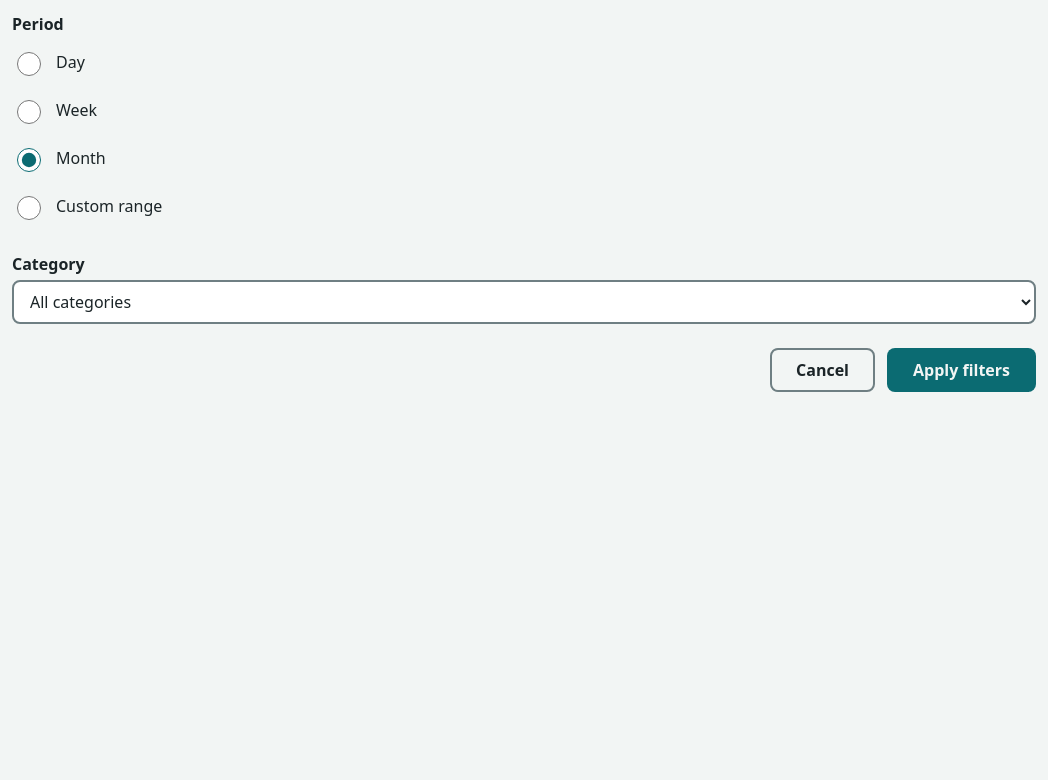
Scenario: ExpenseFilterForm › shows the date fields only for a custom range
Step 1. Click the radio button labelled "Custom range" → {"x": 29, "y": 208}, box x1=17 y1=196 x2=41 y2=220
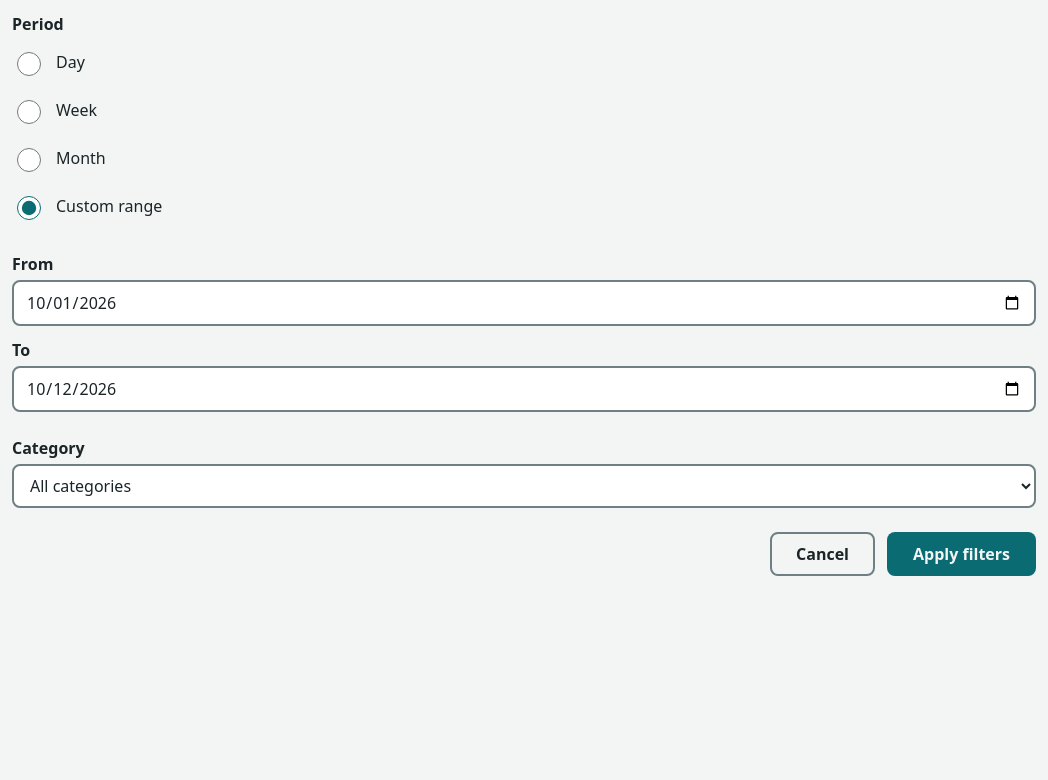
expect the number of date fields is 2: met, box x1=12 y1=280 x2=1036 y2=326; x1=12 y1=366 x2=1036 y2=412
